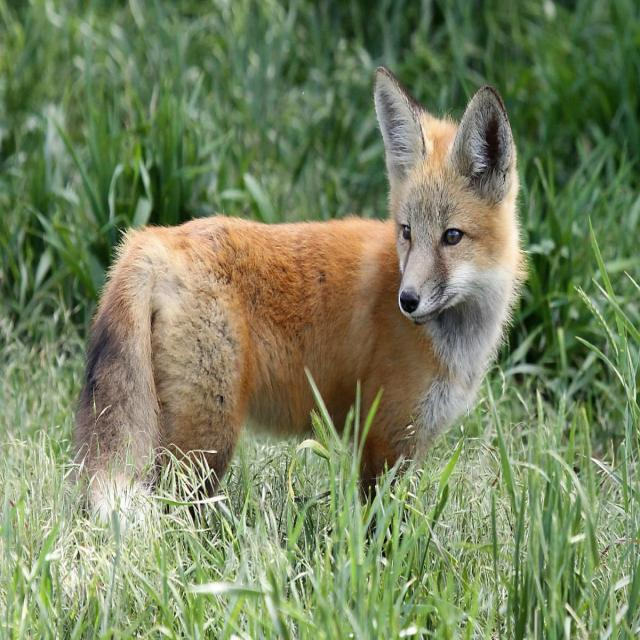fox: (75, 67, 524, 505)
